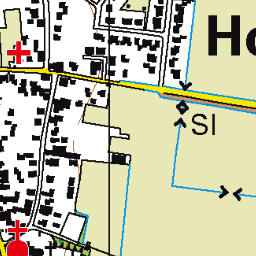church: (1, 217, 34, 256)
